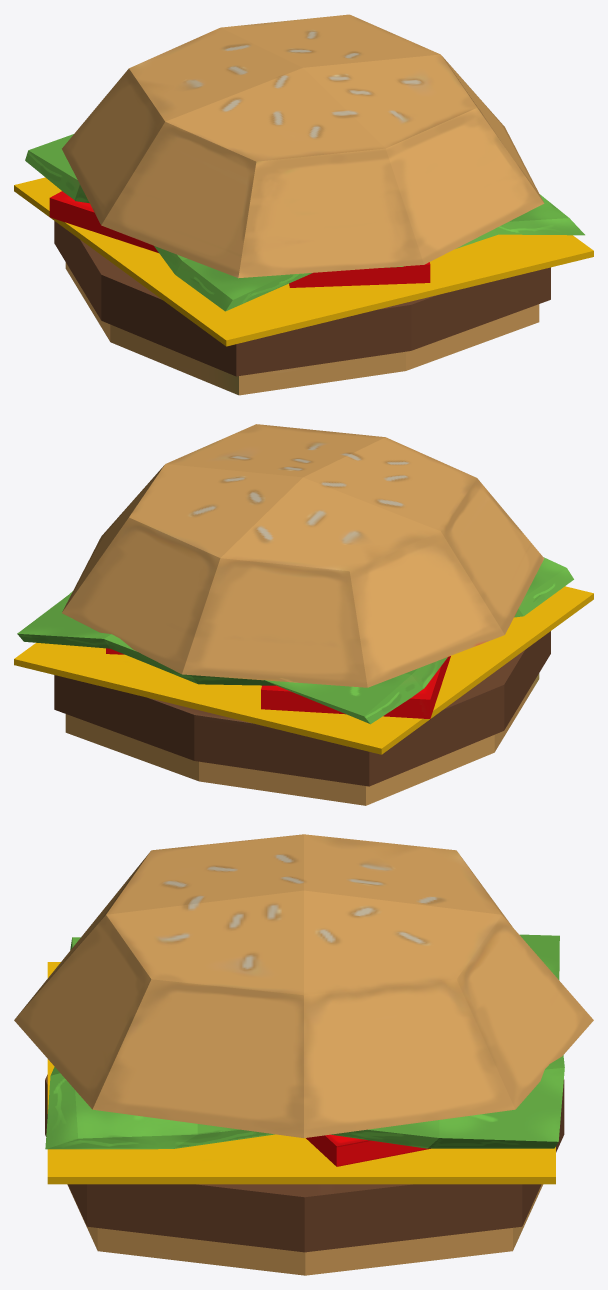
The model's file is Hamburger.glb.
3 views of the same model, one above another, from view 1: azimuth 30°, elevation 25°; view 2: azimuth 150°, elevation 25°; view 3: azimuth 270°, elevation 25° (orthographic). The views are drawn at different scales.
Parts seen in each view (by area): view 1: Burguer; view 2: Burguer; view 3: Burguer.
Part boxes in pixels (bbox=[...]): Burguer: bbox=[14, 14, 593, 395]; Burguer: bbox=[14, 424, 593, 805]; Burguer: bbox=[14, 834, 593, 1275].
Bounding box in the file's own units: 2.78 × 1.5 × 2.89.
Materials: 1 (1 with a texture image).
